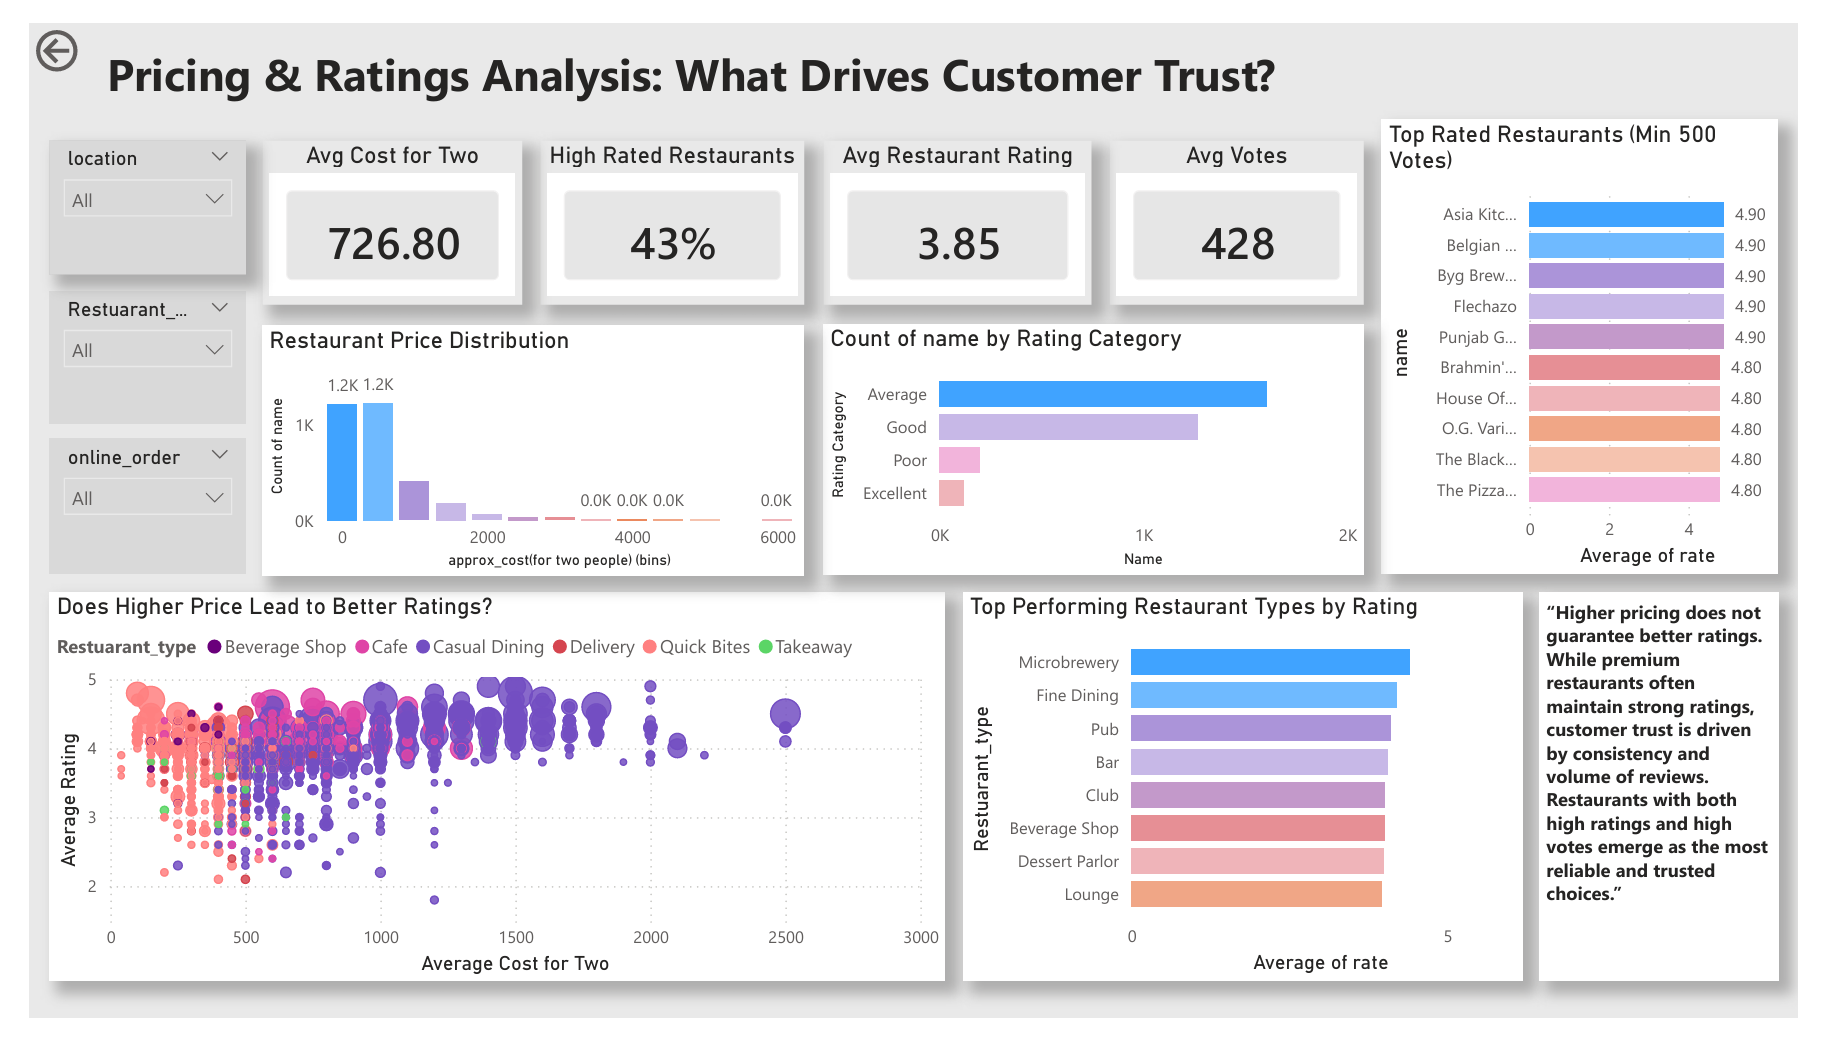

The dashboard page shown, as its layout file describes it:
{"tool":"powerbi","page":{"name":"Pricing, Ratings & Trust Analysis","canvas":[1280,720],"ordinal":4},"visuals":[{"type":"cardVisual","title":"Avg Restaurant Rating","fields":{"Data":["KPI_Measures.Avg Rating"]},"box":[574.6,85.1,194,119.4],"z":0},{"type":"cardVisual","title":"Avg Cost for Two","fields":{"Data":["KPI_Measures.Avg Cost"]},"box":[168.7,85.1,188.1,119.4],"z":1},{"type":"cardVisual","title":"Avg Votes","fields":{"Data":["KPI_Measures.Avg Votes"]},"box":[782.1,85.1,183.6,119.4],"z":2},{"type":"cardVisual","title":"High Rated Restaurants","fields":{"Data":["KPI_Measures.High Rated %"]},"box":[370.1,85.1,191,119.4],"z":3},{"type":"scatterChart","title":"Does Higher Price Lead to Better Ratings?","fields":{"X":["Avg(Zomato_Restaurants_Clean.approx_cost(for two people))"],"Y":["Avg(Zomato_Restaurants_Clean.rate)"],"Size":["Sum(Zomato_Restaurants_Clean.votes)"],"Series":["Zomato_Restaurants_Clean.Restuarant_type"],"Category":["Zomato_Restaurants_Clean.name"]},"box":[14.9,411.9,647.8,280.6],"z":4},{"type":"actionButton","box":[0,0,100,40],"z":5},{"type":"clusteredBarChart","title":"Top Rated Restaurants (Min 500 Votes)","fields":{"Category":["Zomato_Restaurants_Clean.name"],"Y":["Avg(Zomato_Restaurants_Clean.rate)"]},"box":[979.1,70.1,286.6,328.4],"z":6},{"type":"clusteredBarChart","fields":{"Category":["Zomato_Restaurants_Clean.Rating Category"],"Y":["CountNonNull(Zomato_Restaurants_Clean.name)"]},"box":[574.6,217.9,391,180.6],"z":7},{"type":"clusteredColumnChart","title":"Restaurant Price Distribution","fields":{"Category":["Zomato_Restaurants_Clean.approx_cost(for two people) (bins)"],"Y":["CountNonNull(Zomato_Restaurants_Clean.name)"]},"box":[168.7,219.4,392.5,180.6],"z":8},{"type":"clusteredBarChart","title":"Top Performing Restaurant Types by Rating","fields":{"Category":["Zomato_Restaurants_Clean.Restuarant_type"],"Y":["Avg(Zomato_Restaurants_Clean.rate)"]},"box":[676.1,411.9,404.5,280.6],"z":9},{"type":"textbox","box":[50.7,9,958.2,61.2],"z":10},{"type":"textbox","box":[1093.2,411.9,172.9,281.4],"z":11},{"type":"slicer","fields":{"Values":["Zomato_Restaurants_Clean.location"]},"box":[14.9,85.1,141.8,97],"z":12},{"type":"slicer","fields":{"Values":["Zomato_Restaurants_Clean.Restuarant_type"]},"box":[14.9,194,141.8,95.5],"z":13},{"type":"slicer","fields":{"Values":["Zomato_Restaurants_Clean.online_order"]},"box":[14.9,301.5,141.8,97],"z":14}]}

Visuals, with their boxes in screenshot pixels (x1, y1, x2, y2), scaled from the page's 1280x720 canvas onto the 1831x1046 screenshot:
"Avg Restaurant Rating" cardVisual: [822,124,1099,297]
"Avg Cost for Two" cardVisual: [241,124,510,297]
"Avg Votes" cardVisual: [1119,124,1381,297]
"High Rated Restaurants" cardVisual: [529,124,803,297]
"Does Higher Price Lead to Better Ratings?" scatterChart: [21,598,948,1006]
actionButton: [0,0,143,58]
"Top Rated Restaurants (Min 500 Votes)" clusteredBarChart: [1401,102,1811,579]
clusteredBarChart - Zomato_Restaurants_Clean.Rating Category x CountNonNull(Zomato_Restaurants_Clean.name): [822,317,1381,579]
"Restaurant Price Distribution" clusteredColumnChart: [241,319,803,581]
"Top Performing Restaurant Types by Rating" clusteredBarChart: [967,598,1546,1006]
textbox: [73,13,1443,102]
textbox: [1564,598,1811,1007]
slicer - Zomato_Restaurants_Clean.location: [21,124,224,265]
slicer - Zomato_Restaurants_Clean.Restuarant_type: [21,282,224,421]
slicer - Zomato_Restaurants_Clean.online_order: [21,438,224,579]
